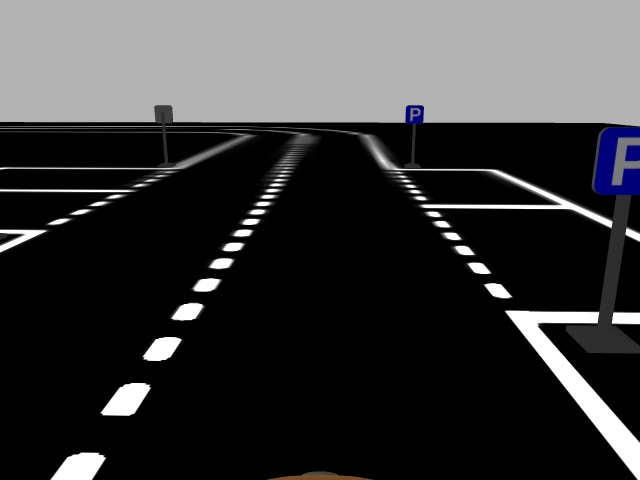parking: (592, 124, 640, 196), (404, 104, 425, 125)
